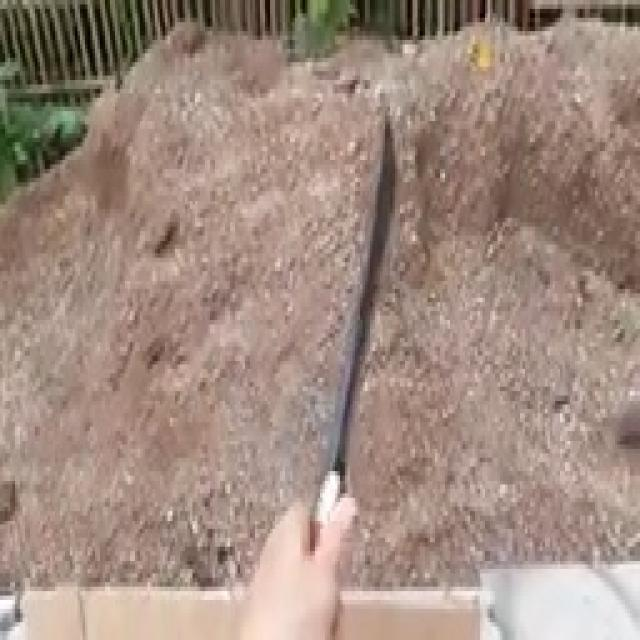eto: (296, 103, 399, 640)
